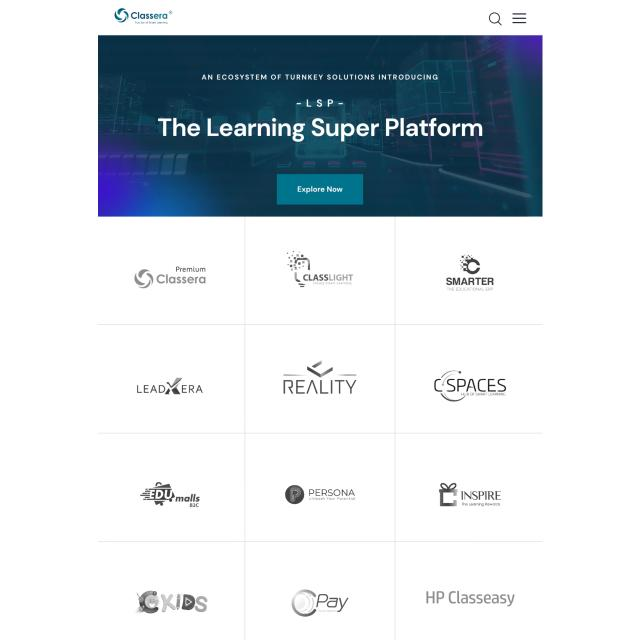logo: (280, 248, 358, 294), (276, 360, 362, 400), (430, 366, 511, 406), (440, 249, 501, 296), (132, 257, 208, 292), (280, 478, 358, 511), (133, 585, 210, 618), (139, 478, 206, 514), (437, 480, 504, 514), (424, 586, 516, 609), (288, 587, 352, 620), (134, 374, 206, 398), (111, 5, 176, 28)
navigation: (510, 8, 528, 28)
